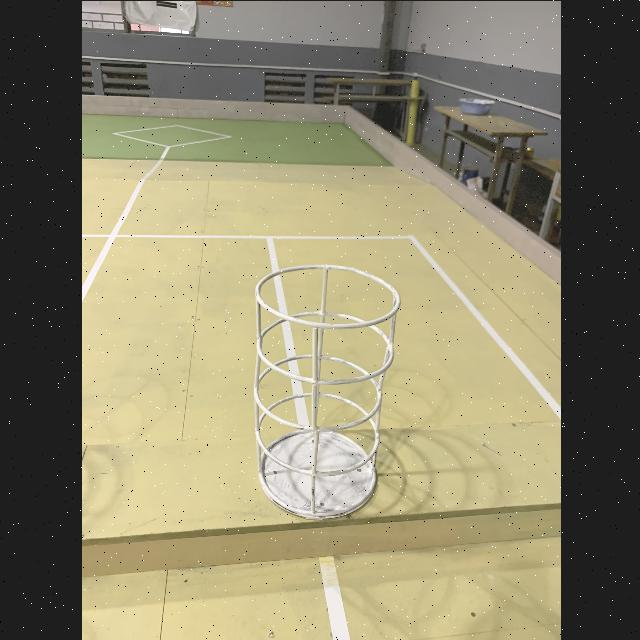S: (250, 262, 402, 518)
